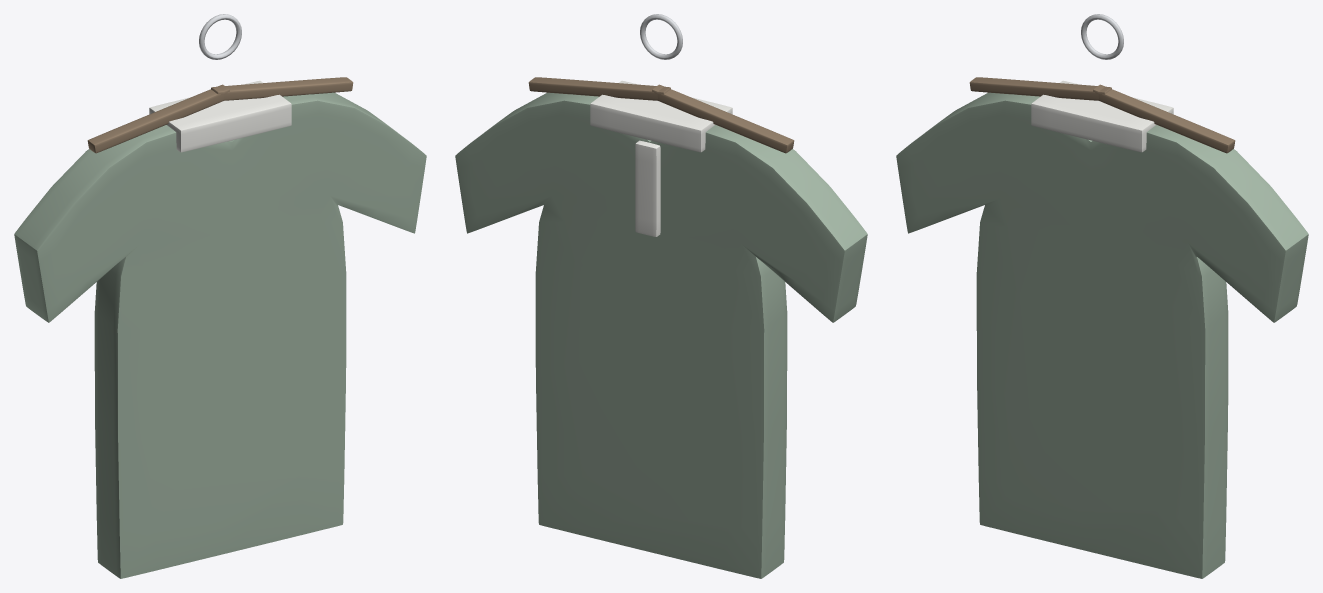
Rendered from polo_hanging.glb.
3 views of the same model, side by side, from view 1: azimuth 30°, elevation 25°; view 2: azimuth 150°, elevation 25°; view 3: azimuth 330°, elevation 25° (orthographic).
Visible parts, largest first — view 1: polo_hanging; view 2: polo_hanging; view 3: polo_hanging.
Part boxes in pixels (<box>): polo_hanging: <box>14,14,426,578</box>; polo_hanging: <box>455,14,867,578</box>; polo_hanging: <box>896,14,1308,578</box>.
Size of the model in its own units: 0.5228 by 0.6783 by 0.0749.
